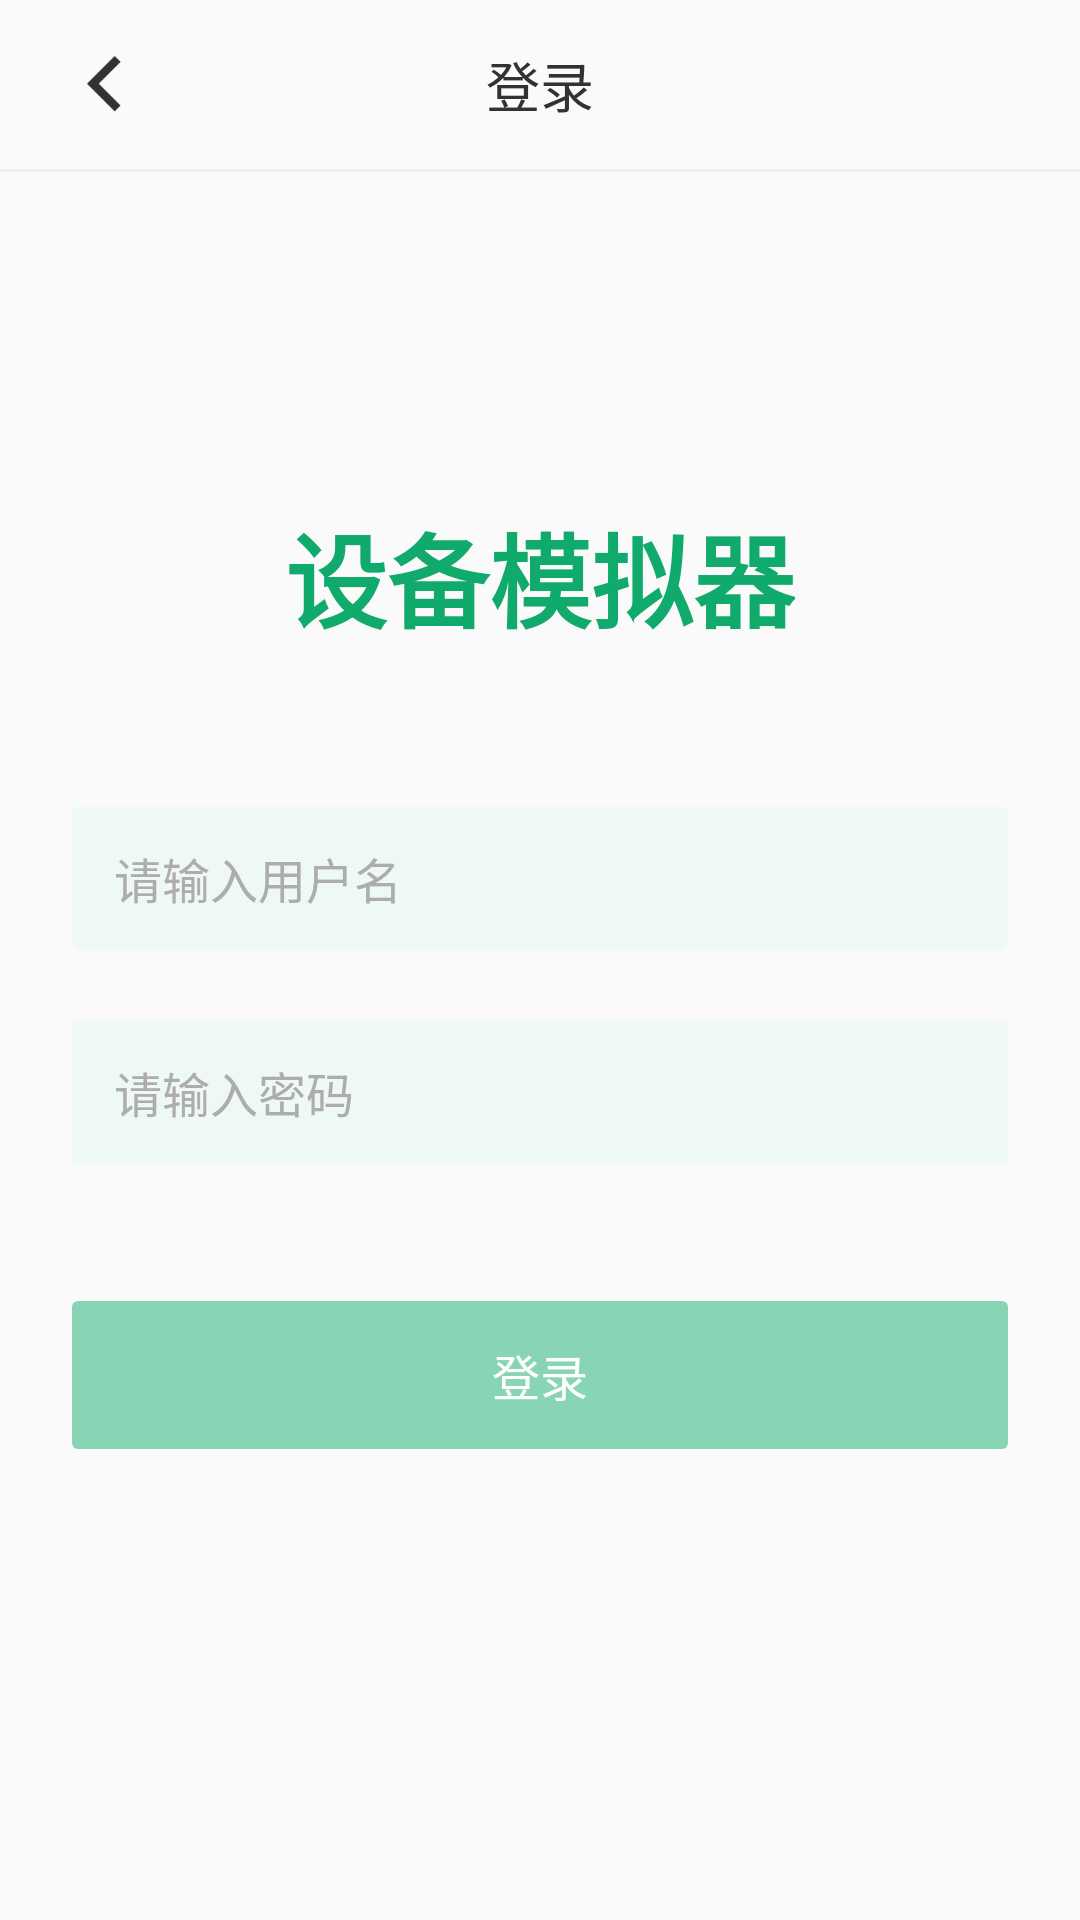

Screen size 1080px x 1920px. Icon name, then its center in pixels as (x=x, y=y):
back: (x=104, y=84)
